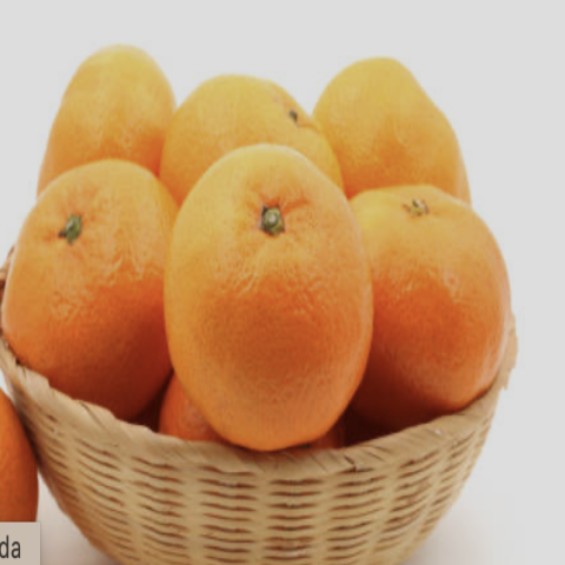orange: (158, 134, 386, 449), (313, 165, 554, 422), (6, 137, 189, 450)
